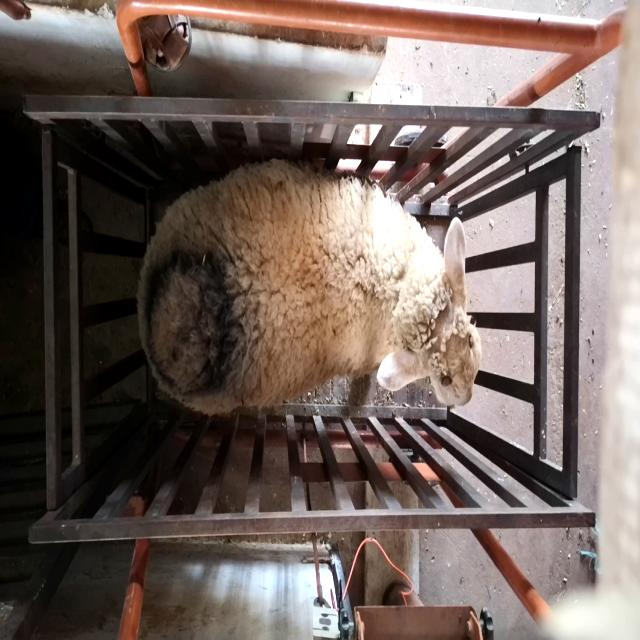sheep: (138, 159, 482, 417)
